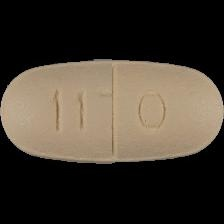43063-591: (0, 0, 224, 224)
